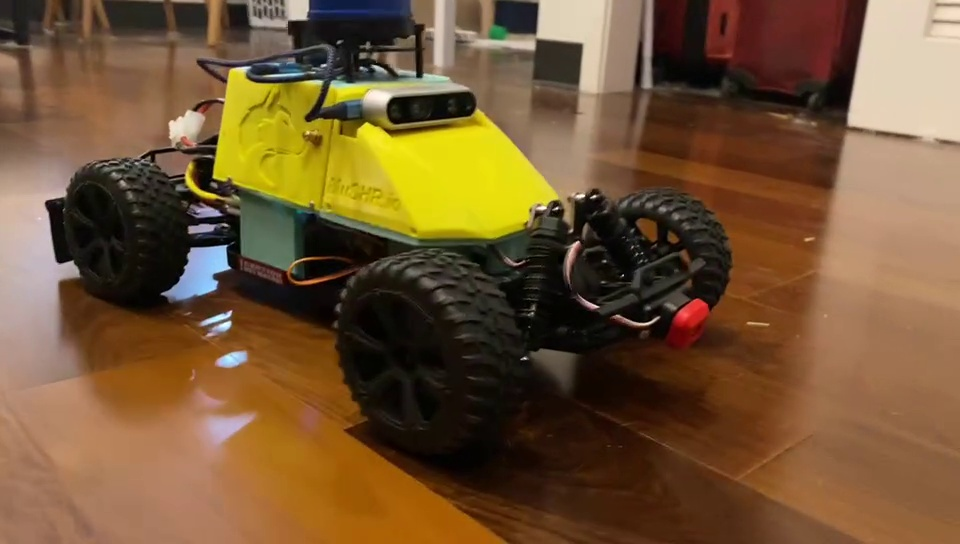mushr_car: (40, 1, 734, 462)
